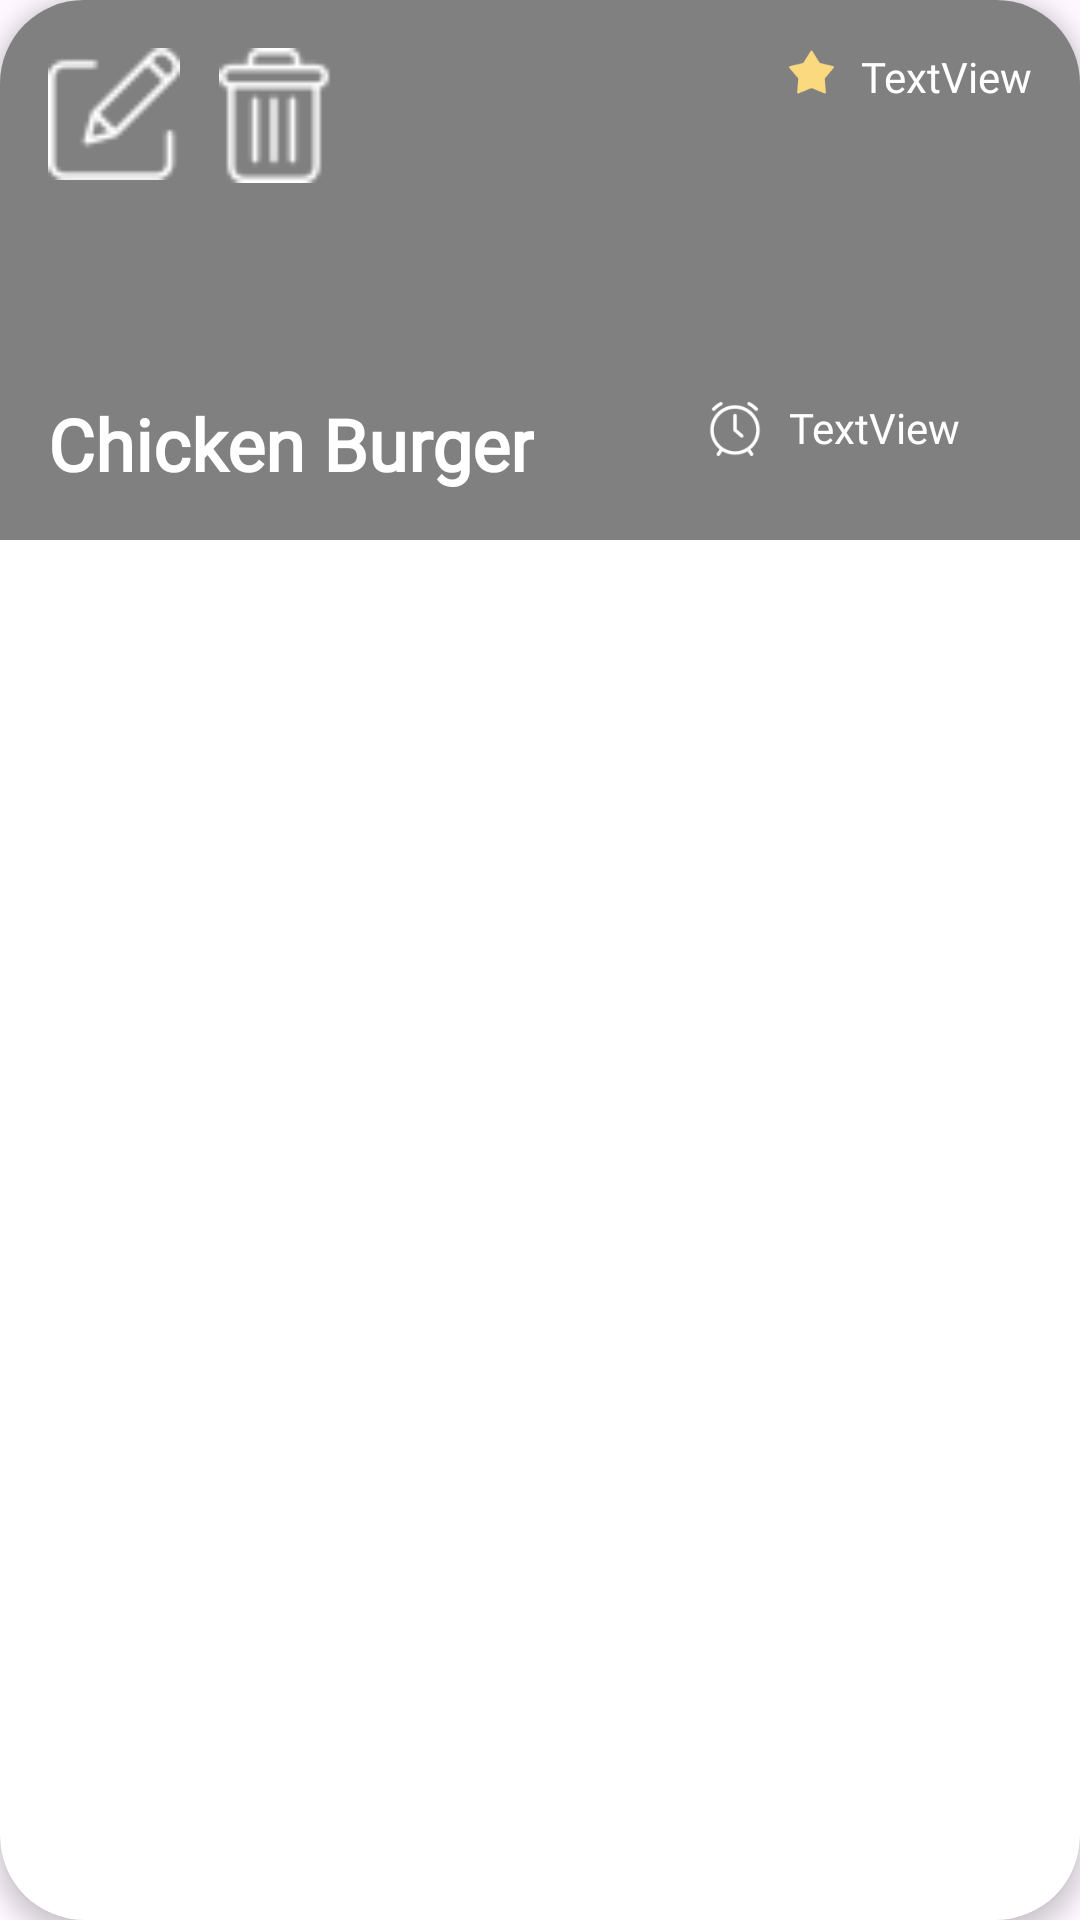

Icons on this 1080w x 1920h Android screen, each with its box as (x1, y1, x2, y2):
alarm: (710, 402, 760, 456)
delete: (219, 48, 330, 183)
edit: (48, 48, 180, 180)
star: (789, 50, 834, 94)
